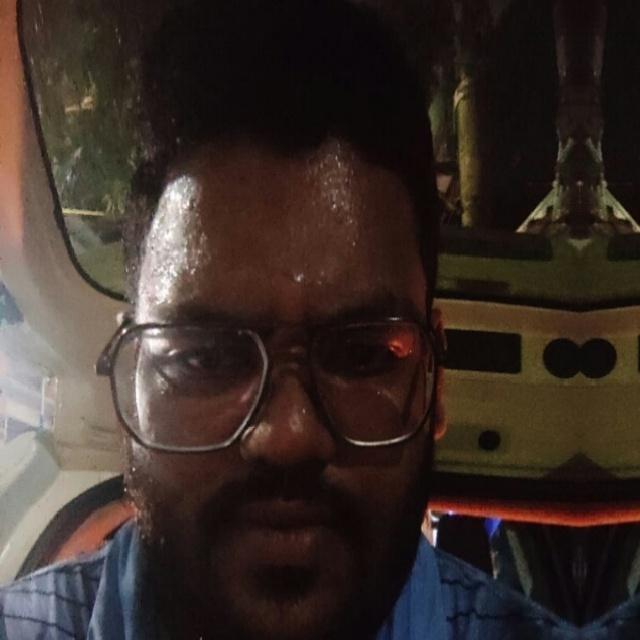Angry: (86, 111, 472, 640)
